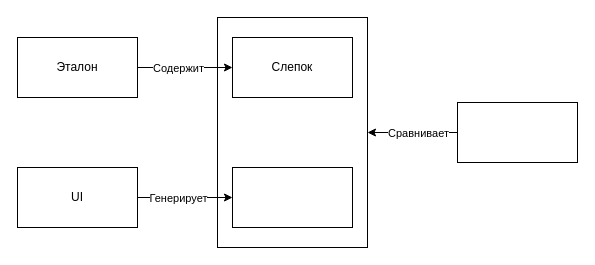
Some shapes in this 595 by 265 pixel diagram are drawn without their labels. The box of each missing label's shape, as (x1, y1, x2, y2) in pixels:
Слепок': (232, 166, 352, 228)
Тест: (456, 102, 578, 162)
